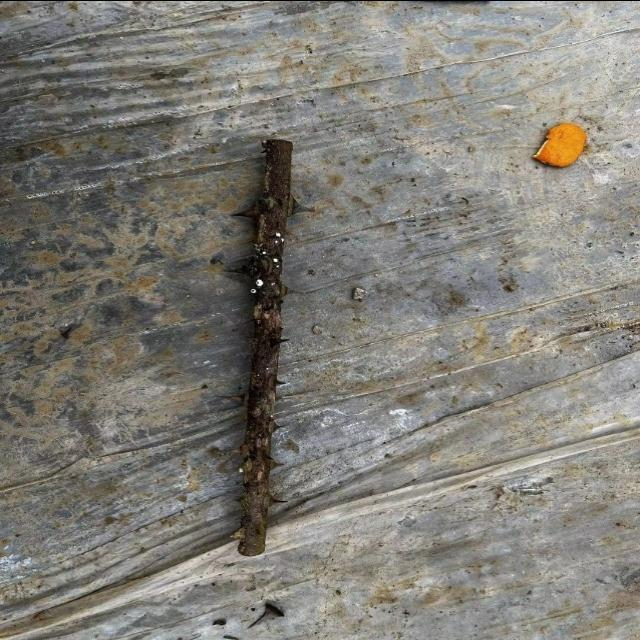branch: (239, 136, 295, 556)
